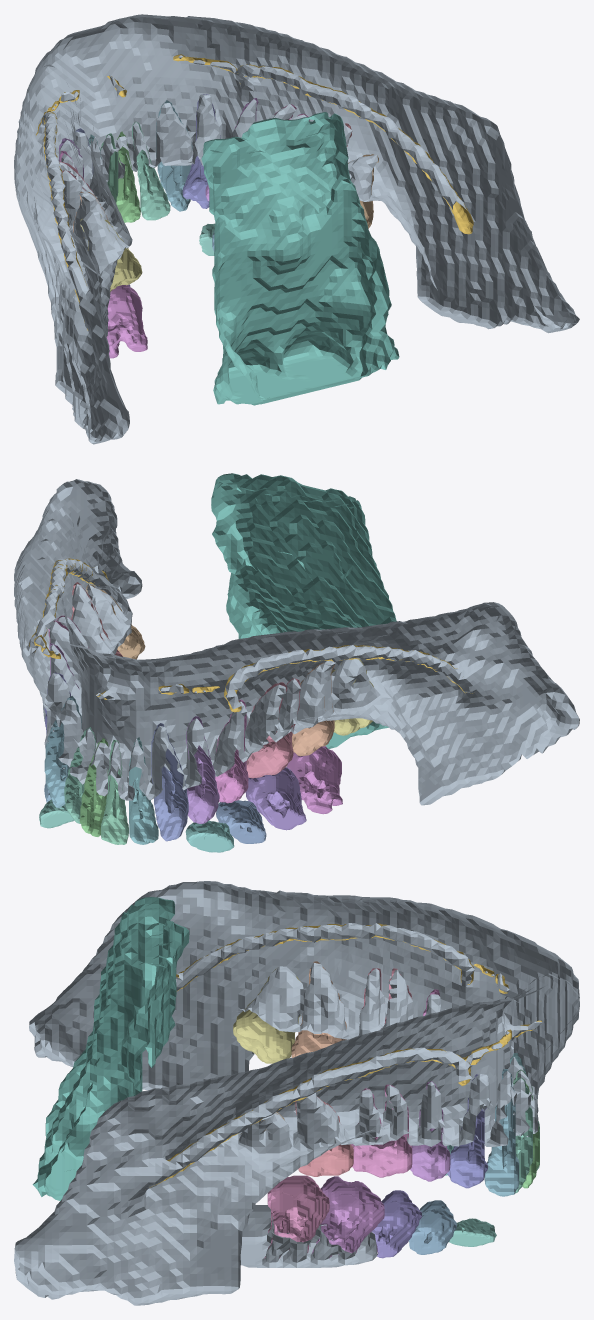
File: ToothFairy3P_001.glb
The picture shows the model from 3 angles, top to bottom: view 1: azimuth 30°, elevation 25°; view 2: azimuth 150°, elevation 25°; view 3: azimuth 270°, elevation 25°; orthographic projection. The views are drawn at different scales.
Parts seen in each view (by area): view 1: jaws__1, other__7, teeth__17, teeth__32, teeth__33, teeth__31, canals__3, teeth__34, teeth__48; view 2: jaws__1, other__7, teeth__17, teeth__16, teeth__43, teeth__44, teeth__46, teeth__42, teeth__15, teeth__33, teeth__41, teeth__31 (+8 smaller); view 3: jaws__1, other__7, jaws__2, teeth__26, teeth__27, teeth__25, teeth__48, teeth__33, teeth__36, teeth__34, teeth__24, teeth__35 (+6 smaller).
Part boxes in pixels (<box>): jaws__1: <box>14,14,579,444</box>; other__7: <box>201,112,399,405</box>; teeth__17: <box>106,285,147,358</box>; teeth__32: <box>132,121,170,220</box>; teeth__33: <box>156,100,192,211</box>; teeth__31: <box>116,131,140,222</box>; canals__3: <box>237,64,473,234</box>; teeth__34: <box>182,94,220,208</box>; teeth__48: <box>80,214,142,291</box>; jaws__1: <box>14,479,579,805</box>; other__7: <box>211,473,396,748</box>; teeth__17: <box>287,746,342,814</box>; teeth__16: <box>245,767,306,830</box>; teeth__43: <box>151,723,188,841</box>; teeth__44: <box>186,716,219,823</box>; teeth__46: <box>246,678,300,778</box>; teeth__42: <box>129,737,158,844</box>; teeth__15: <box>216,800,266,843</box>; teeth__33: <box>44,696,81,807</box>; teeth__41: <box>101,740,128,844</box>; teeth__31: <box>79,738,108,836</box>; jaws__1: <box>14,881,579,1305</box>; other__7: <box>32,897,189,1200</box>; jaws__2: <box>240,1205,377,1267</box>; teeth__26: <box>311,1176,384,1258</box>; teeth__27: <box>264,1175,329,1258</box>; teeth__25: <box>371,1190,421,1258</box>; teeth__48: <box>233,968,300,1063</box>; teeth__33: <box>484,1069,519,1196</box>; teeth__36: <box>351,1084,412,1177</box>; teeth__34: <box>447,1074,487,1188</box>; teeth__24: <box>409,1200,456,1254</box>; teeth__35: <box>376,1081,450,1252</box>.
Size of the model in its own units: 106 by 50.79 by 98.48.
